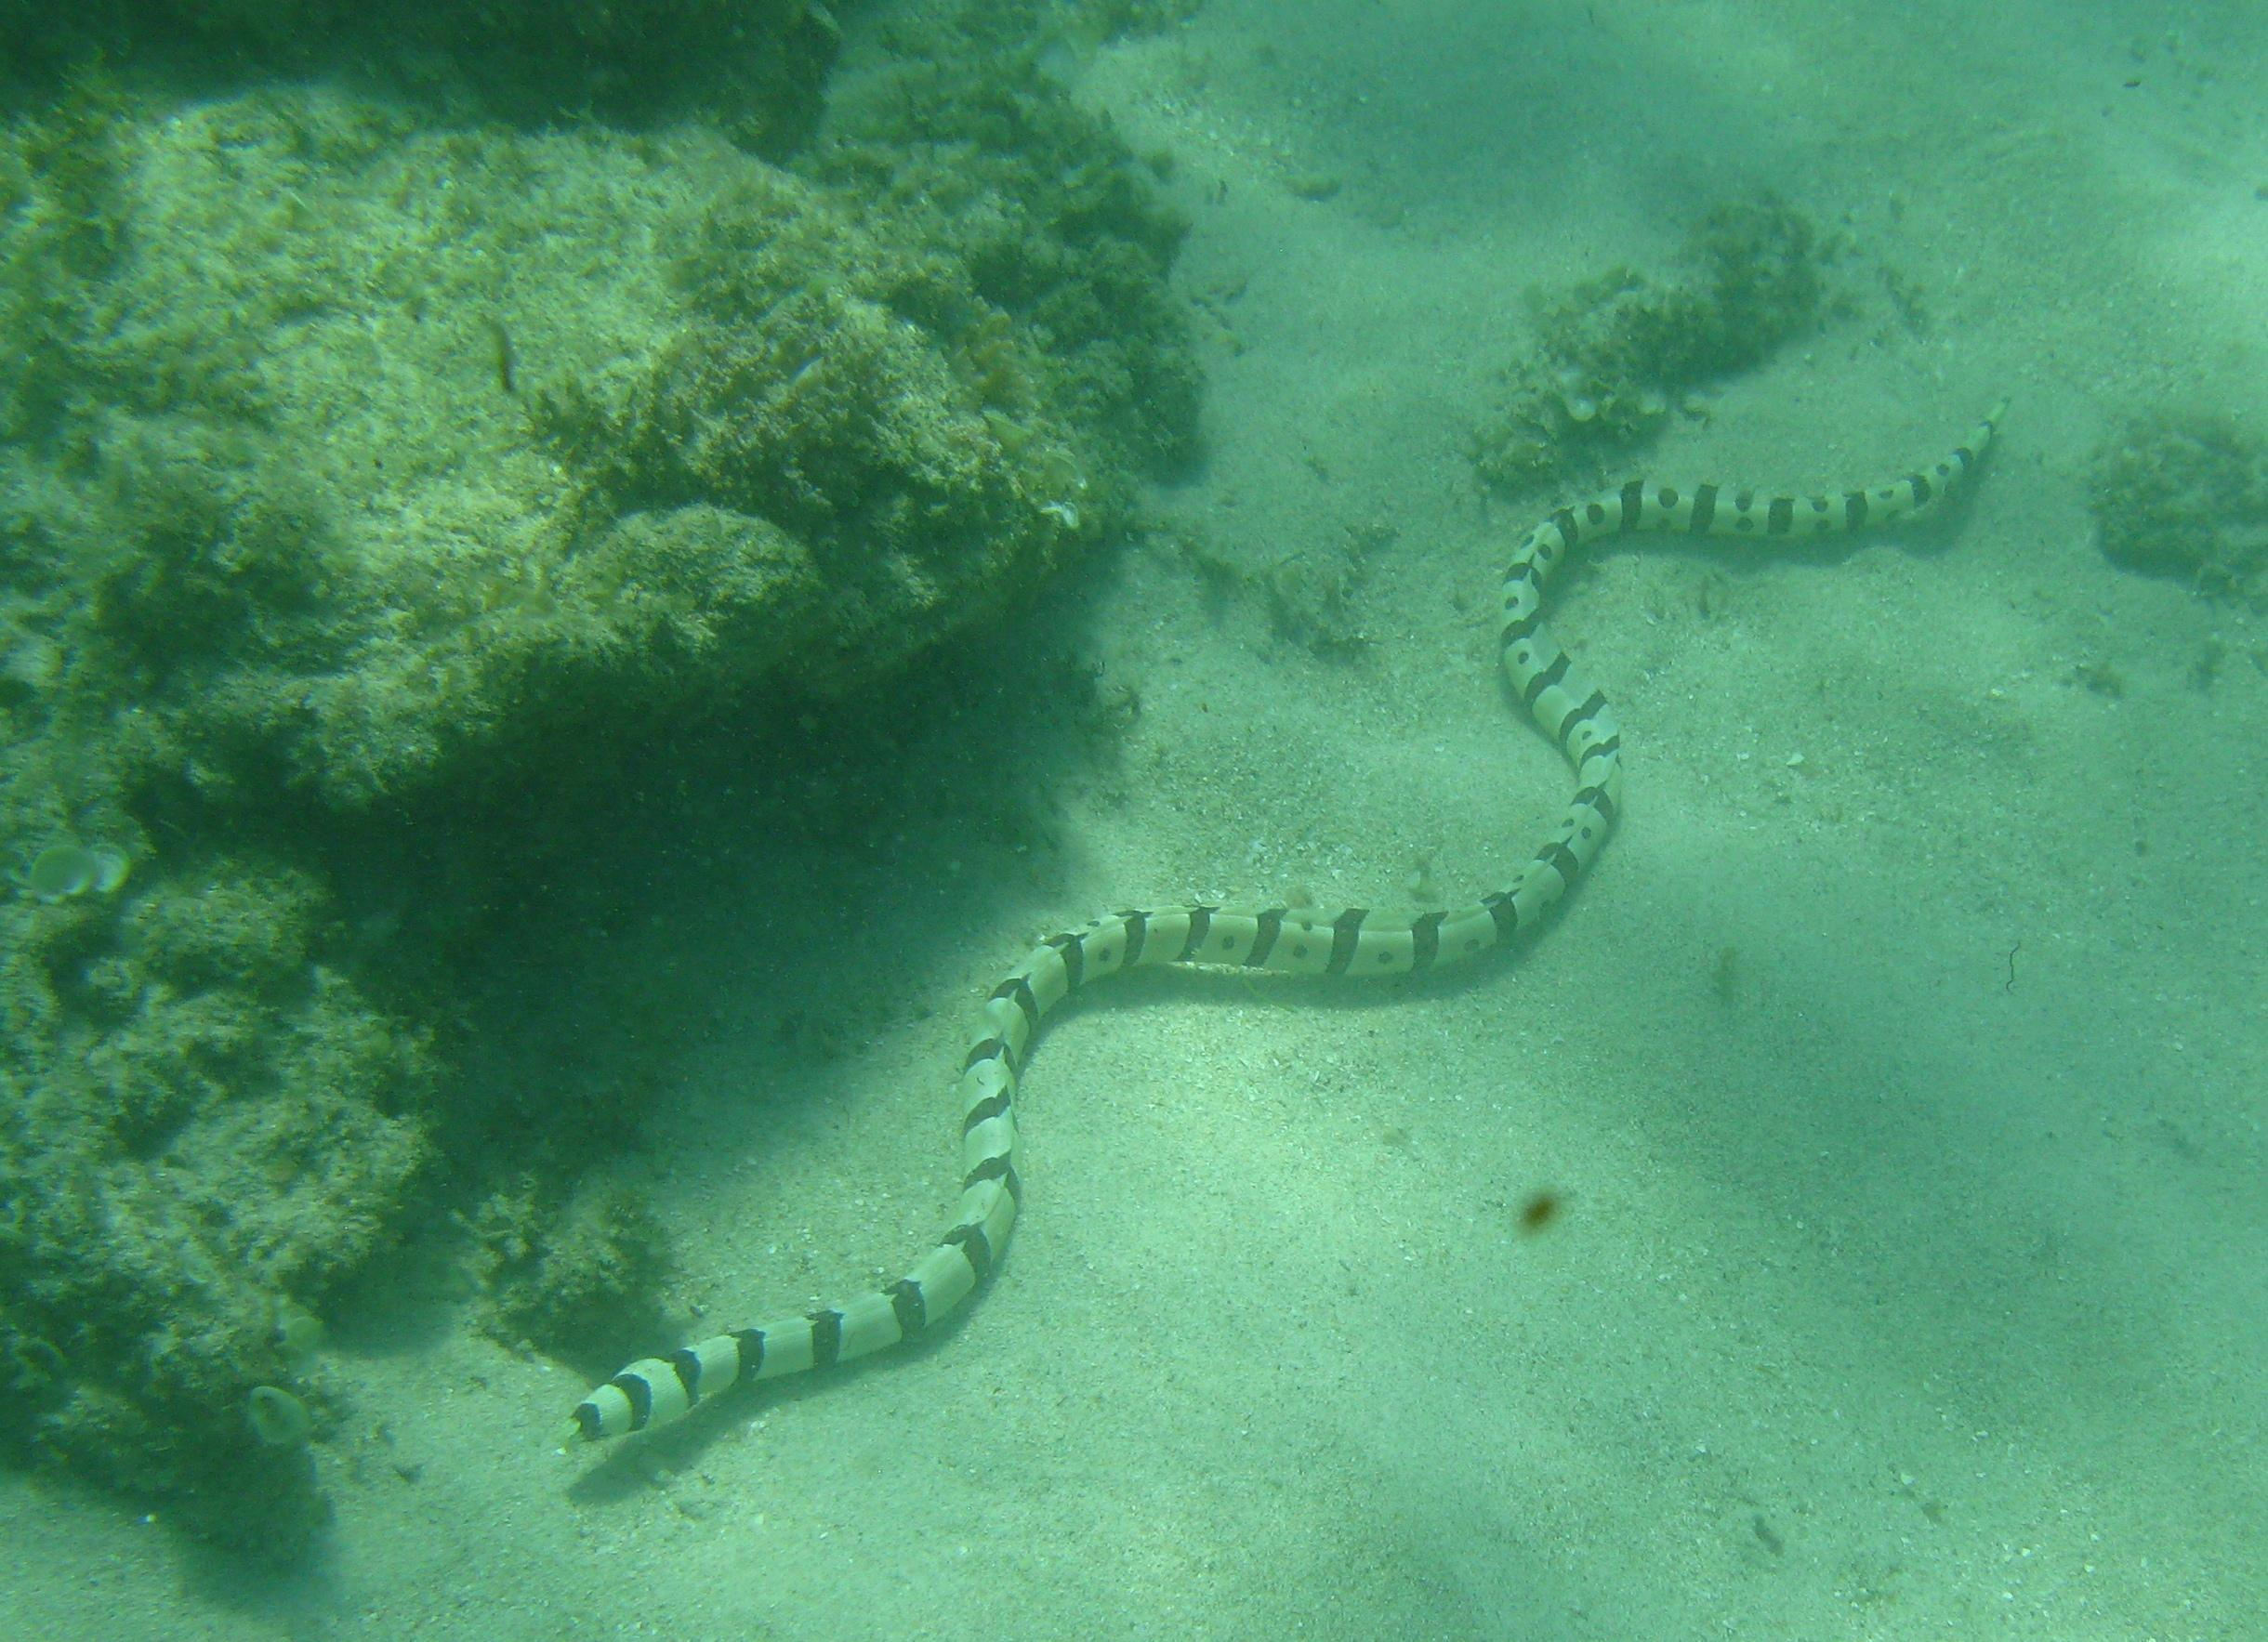Fish: (546, 128, 2078, 1279)
